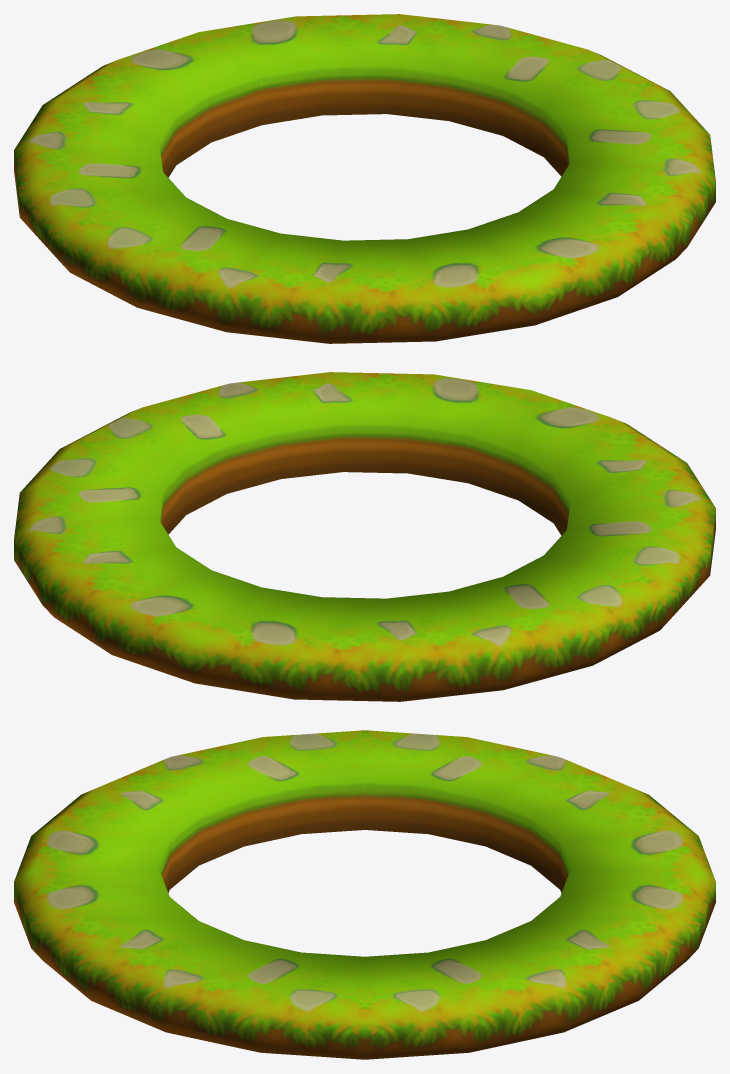
The model's file is zhuanpan01.FBX.
3 renders of one model, top to bottom at view 1: azimuth 30°, elevation 25°; view 2: azimuth 150°, elevation 25°; view 3: azimuth 270°, elevation 25°, orthographic.
Parts seen in each view (by area): view 1: default027; view 2: default027; view 3: default027.
Boxes of the visible parts, x1,y1,x2,y2 form: default027: (14,14,715,343); default027: (14,372,715,701); default027: (14,730,715,1059).
Bounding box in the file's own units: 165368 × 12134 × 165368.
